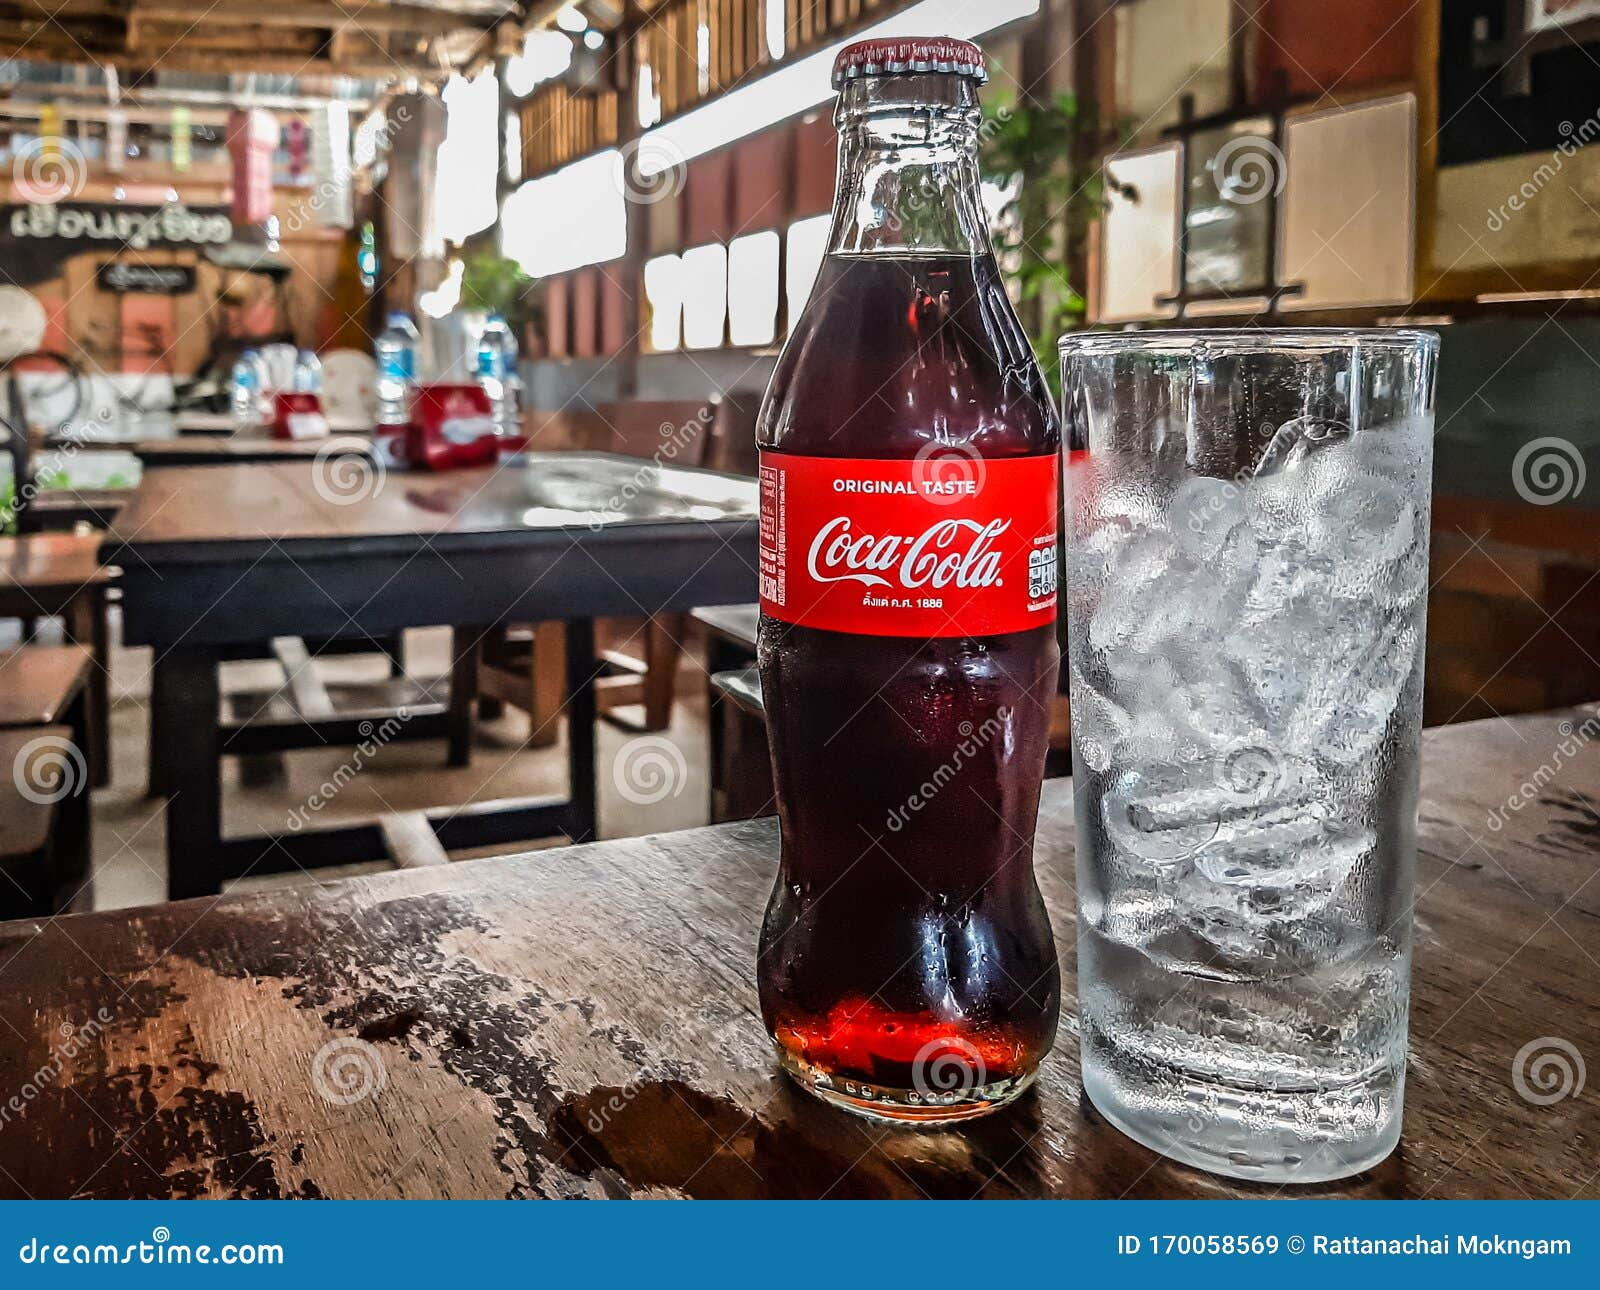glass_bottle: (737, 24, 1072, 1139)
